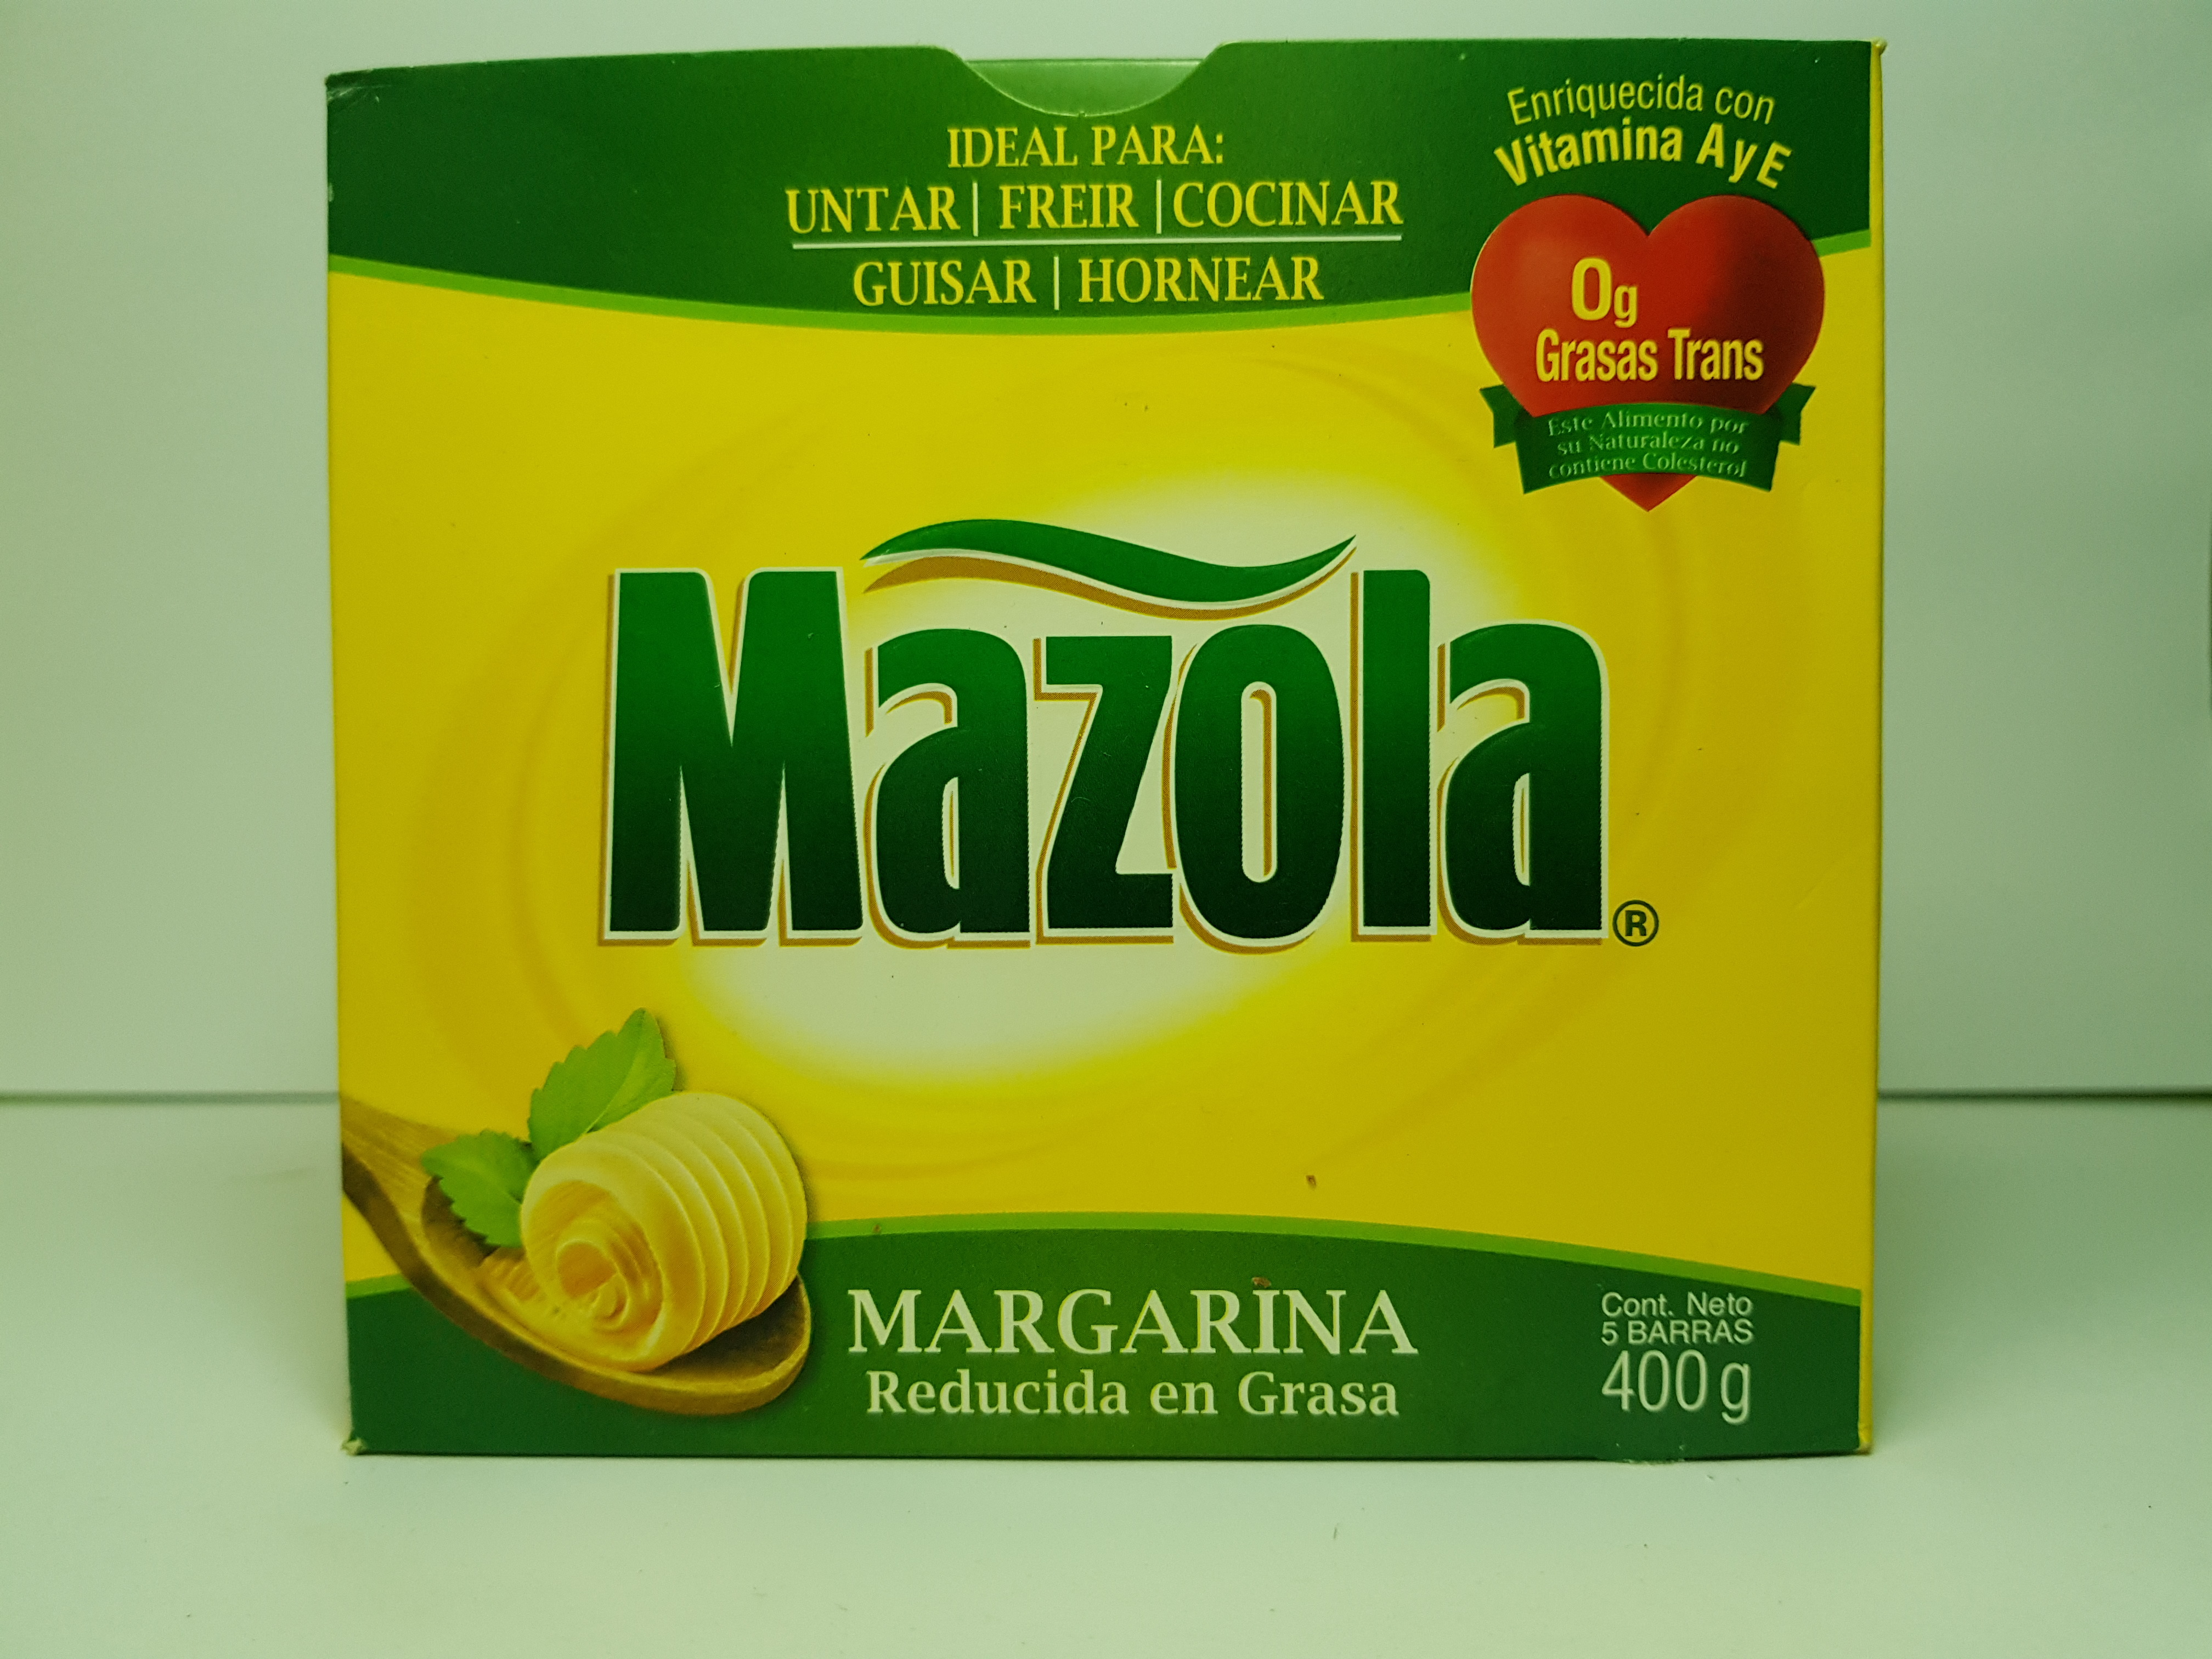mazola: (294, 28, 1909, 1486)
